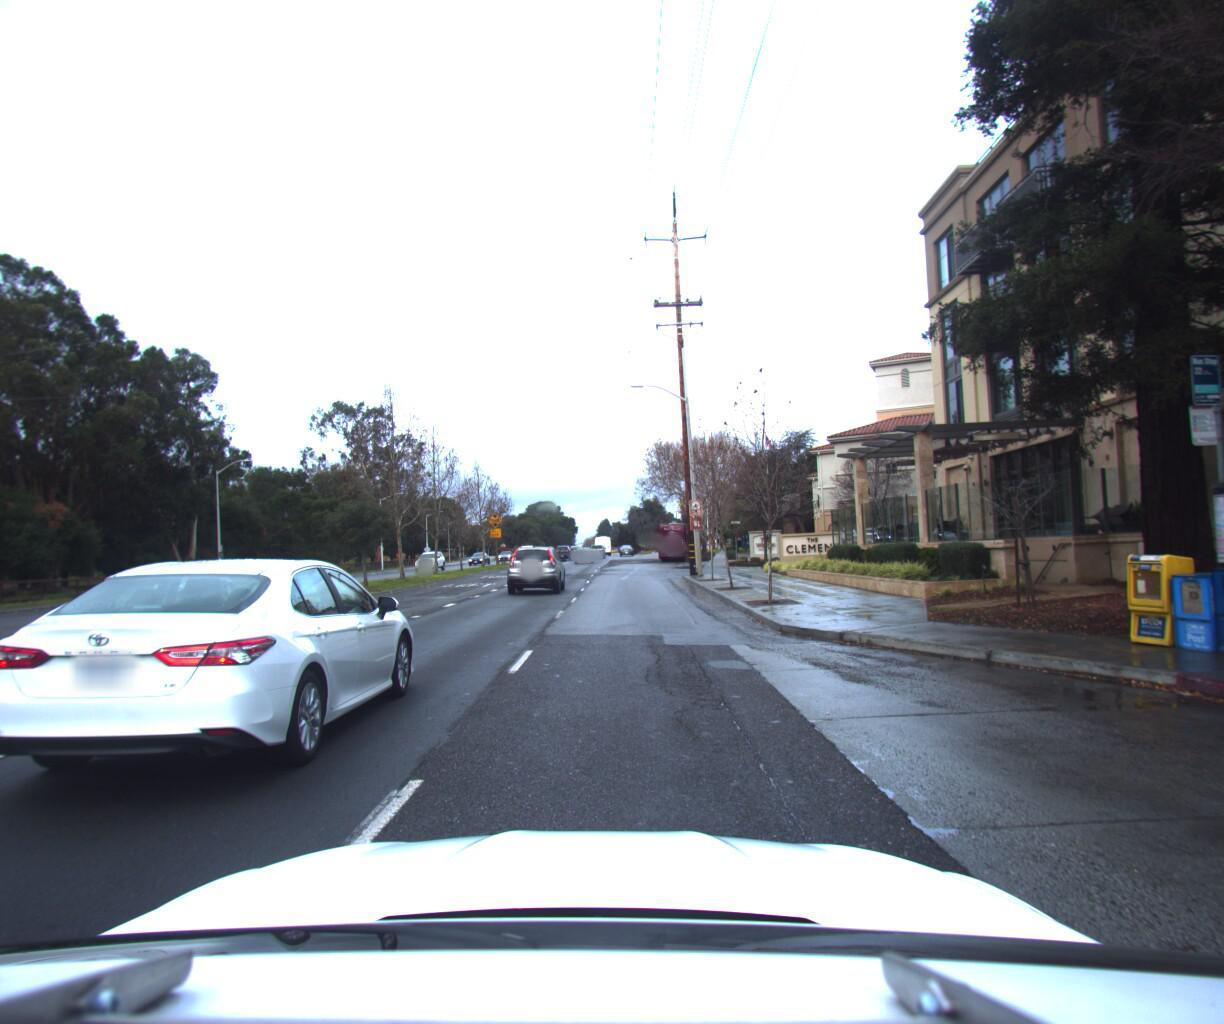bus: (658, 521, 699, 559)
car: (0, 554, 426, 836), (503, 540, 567, 597), (414, 549, 448, 571), (573, 545, 594, 564)
